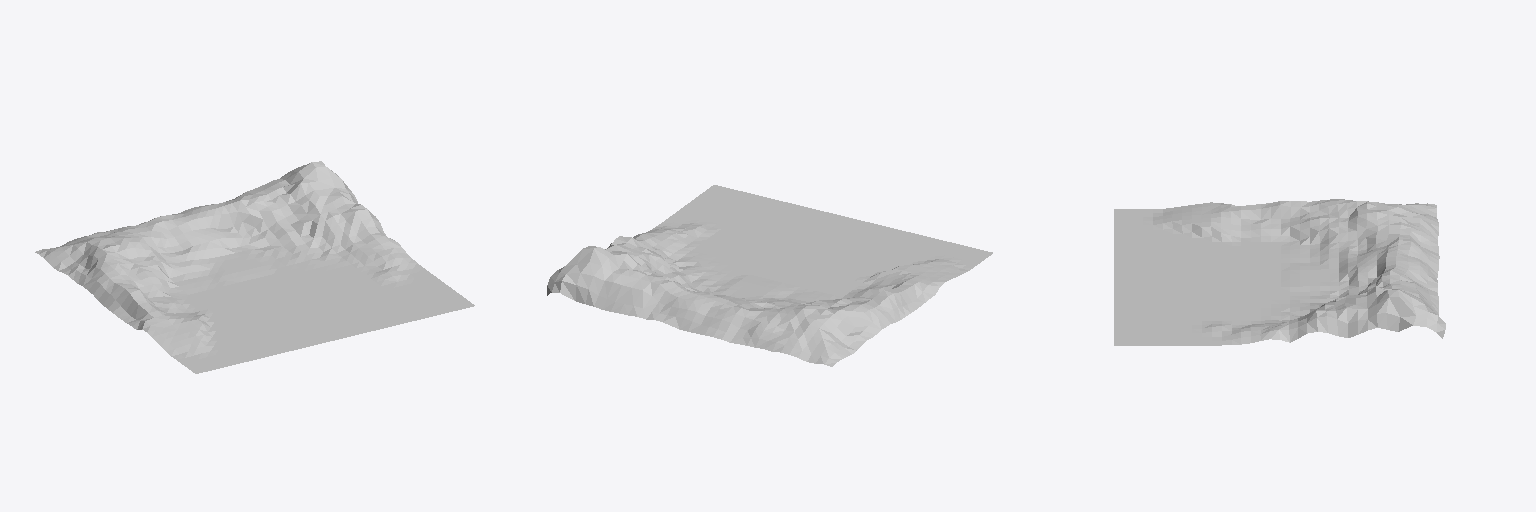
Rendered from ground.obj.
The picture shows the model from 3 angles: view 1: azimuth 30°, elevation 25°; view 2: azimuth 150°, elevation 25°; view 3: azimuth 270°, elevation 25°; orthographic projection.
Parts seen in each view (by area): view 1: Plane; view 2: Plane; view 3: Plane.
Boxes of the visible parts, x1=… form: Plane: x1=35, y1=161, x2=474, y2=373; Plane: x1=547, y1=185, x2=992, y2=366; Plane: x1=1114, y1=199, x2=1445, y2=345.
Bounding box in the file's own units: 82.1 × 12.39 × 82.11.